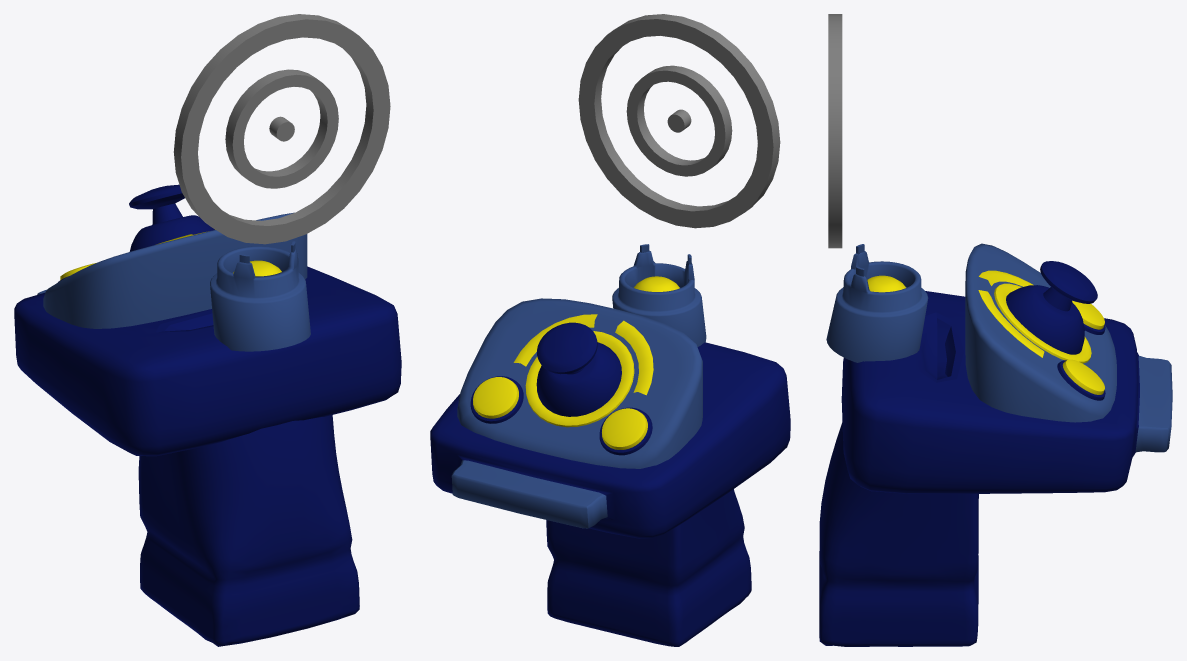
File: Vso_Station_Gunner.fbx
The picture shows the model from 3 angles, left to right: view 1: azimuth 30°, elevation 25°; view 2: azimuth 150°, elevation 25°; view 3: azimuth 270°, elevation 25°; orthographic projection. The views are drawn at different scales.
Parts seen in each view (by area): view 1: Station_Gunner; view 2: Station_Gunner; view 3: Station_Gunner.
Boxes of the visible parts, x1=… form: Station_Gunner: x1=14, y1=14, x2=401, y2=646; Station_Gunner: x1=430, y1=14, x2=790, y2=646; Station_Gunner: x1=819, y1=14, x2=1172, y2=646.
Bounding box in the file's own units: 0.2888 × 0.5996 × 0.3259.
